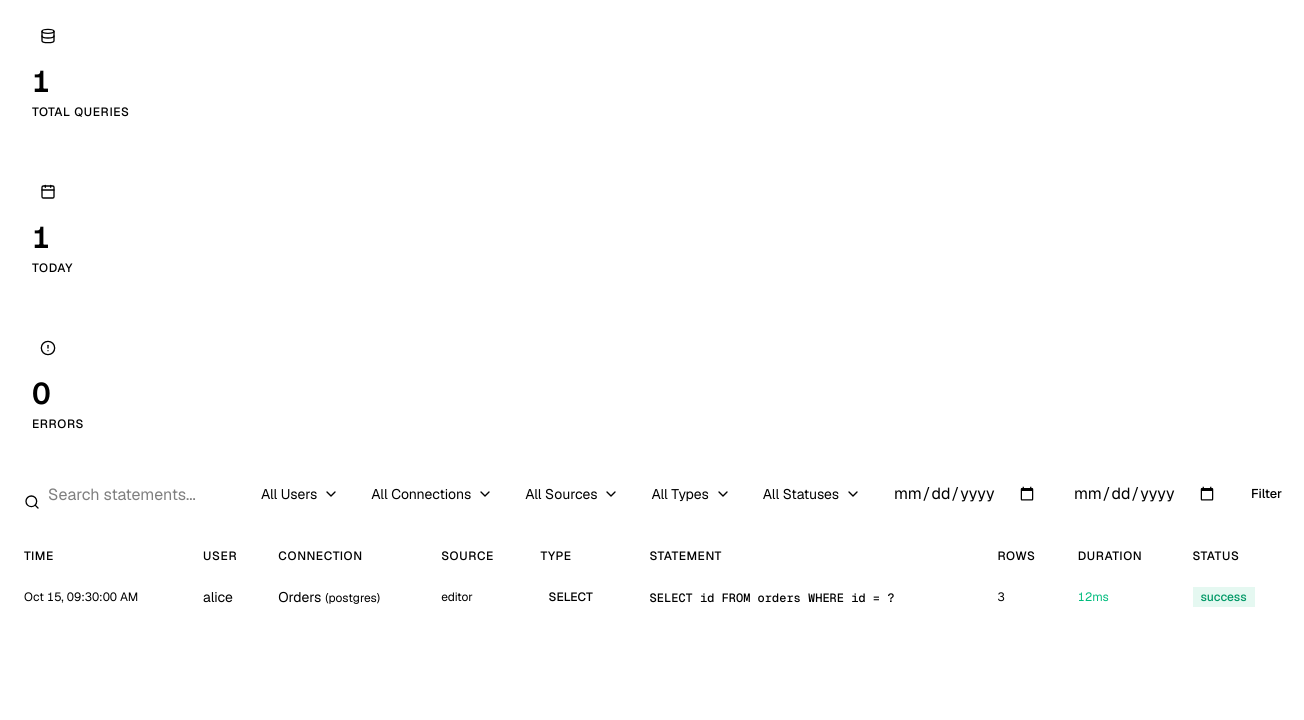
it: AuditLogTable › shows an error banner when the request does not complete
The width and height of the screenshot is (1304, 720).
Step 1. Click the button "Filter" → (1267, 494), box [1241,478,1292,510]
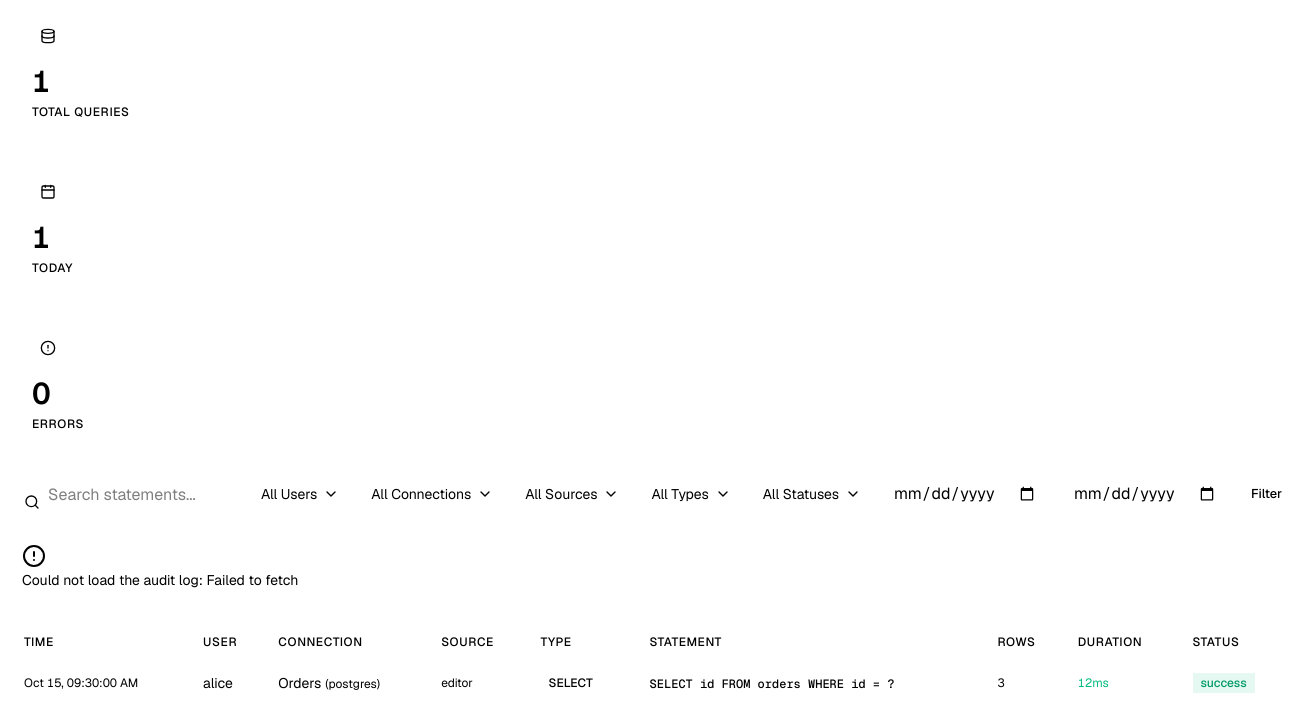
Now the message shows "Failed to fetch", box [206,571,298,589]
